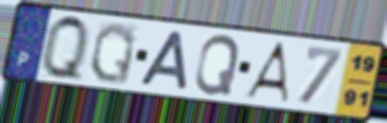7: (298, 43, 345, 108)
A: (137, 28, 191, 92), (241, 41, 291, 105)
Q: (40, 12, 91, 86), (87, 20, 139, 87), (192, 33, 242, 97)
